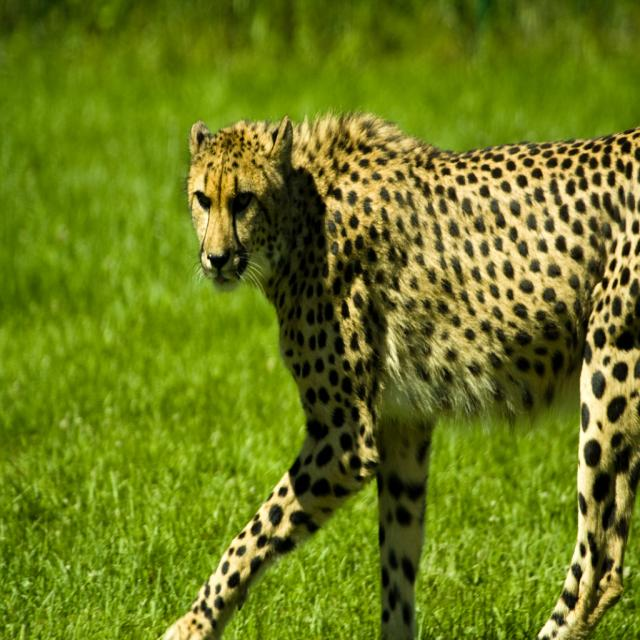Cheetah: (155, 107, 640, 639)
